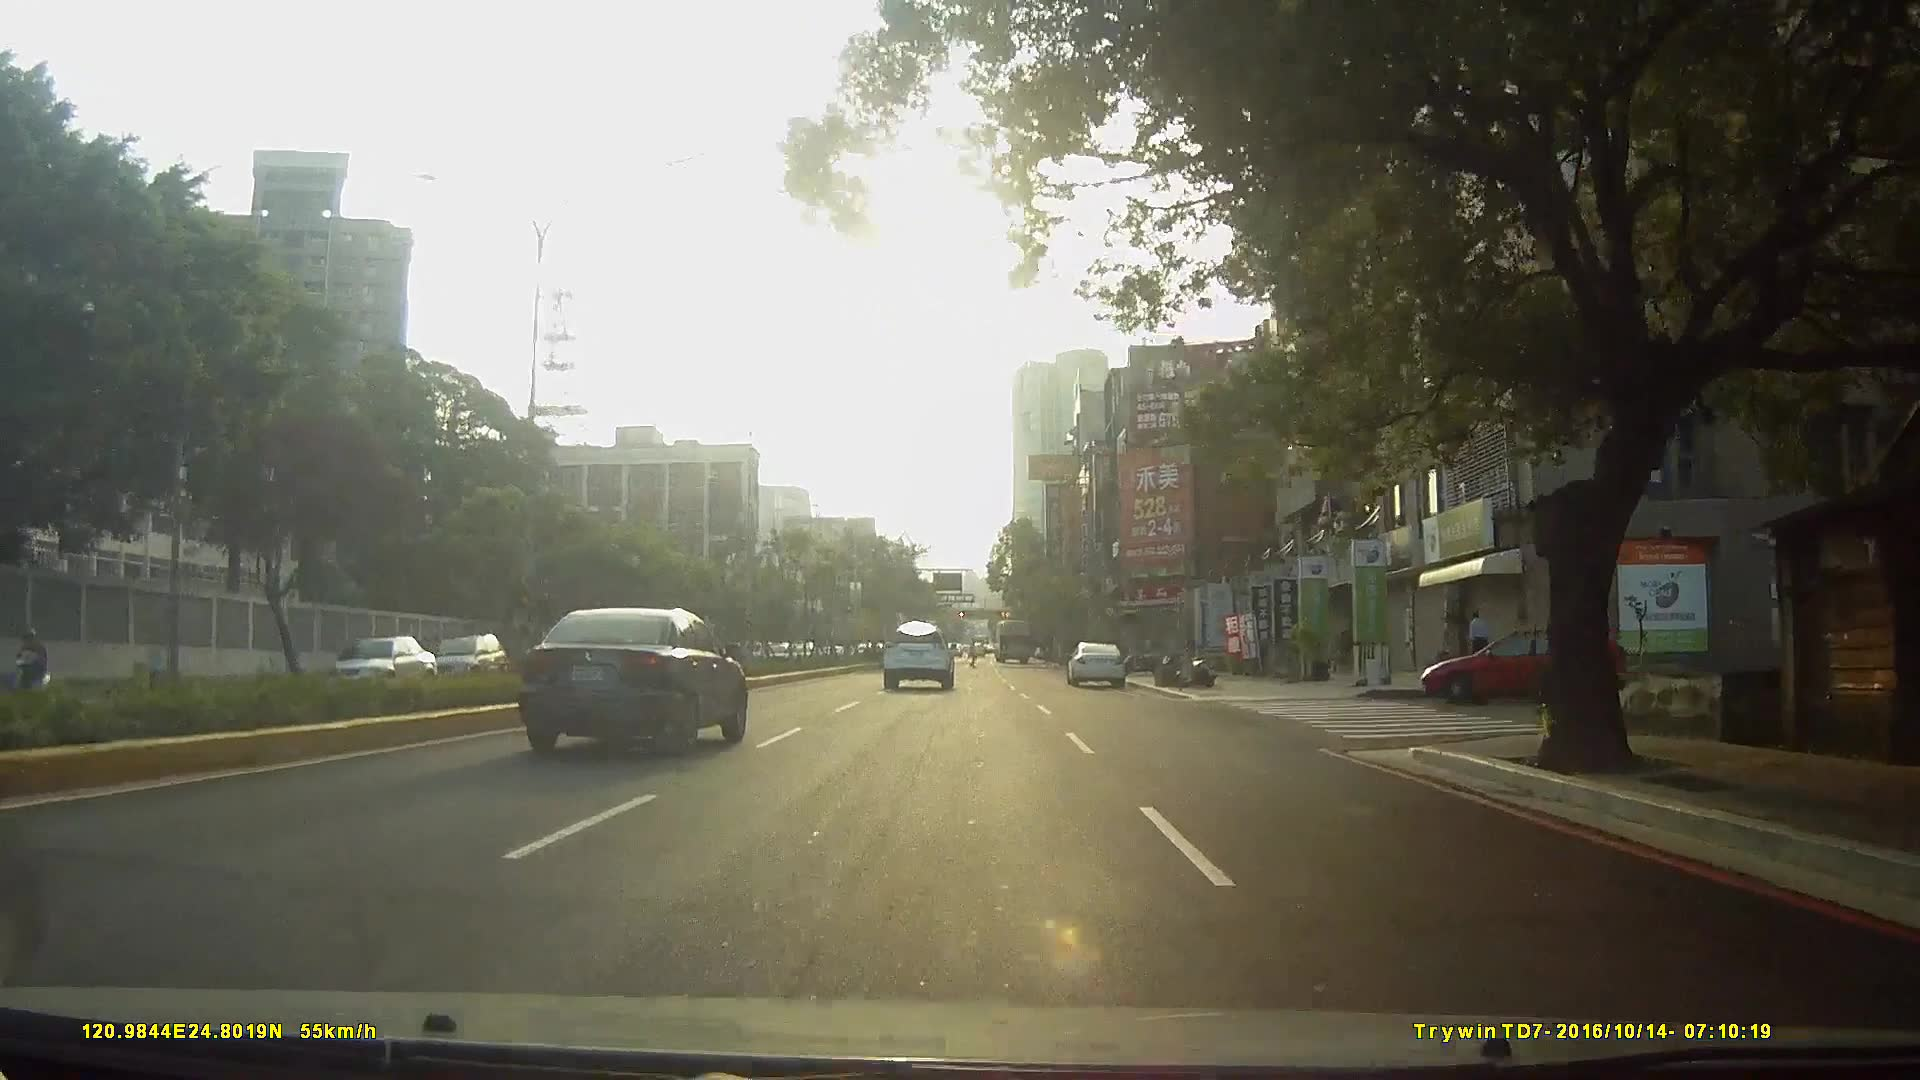pedestrian: (1467, 612, 1490, 681)
rider: (7, 626, 43, 702)
vehicle: (524, 603, 753, 752), (1415, 612, 1641, 705), (317, 625, 449, 699), (882, 620, 956, 688), (427, 612, 515, 668), (1065, 636, 1130, 683), (991, 610, 1035, 658)
